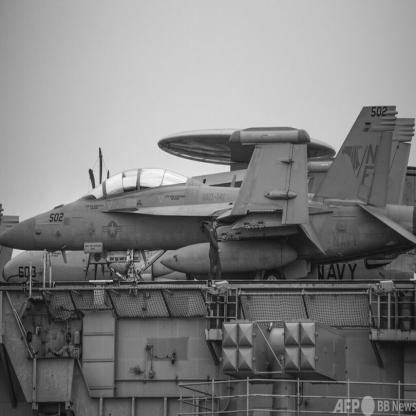E2: (3, 127, 416, 283)
F18: (2, 105, 416, 283)
